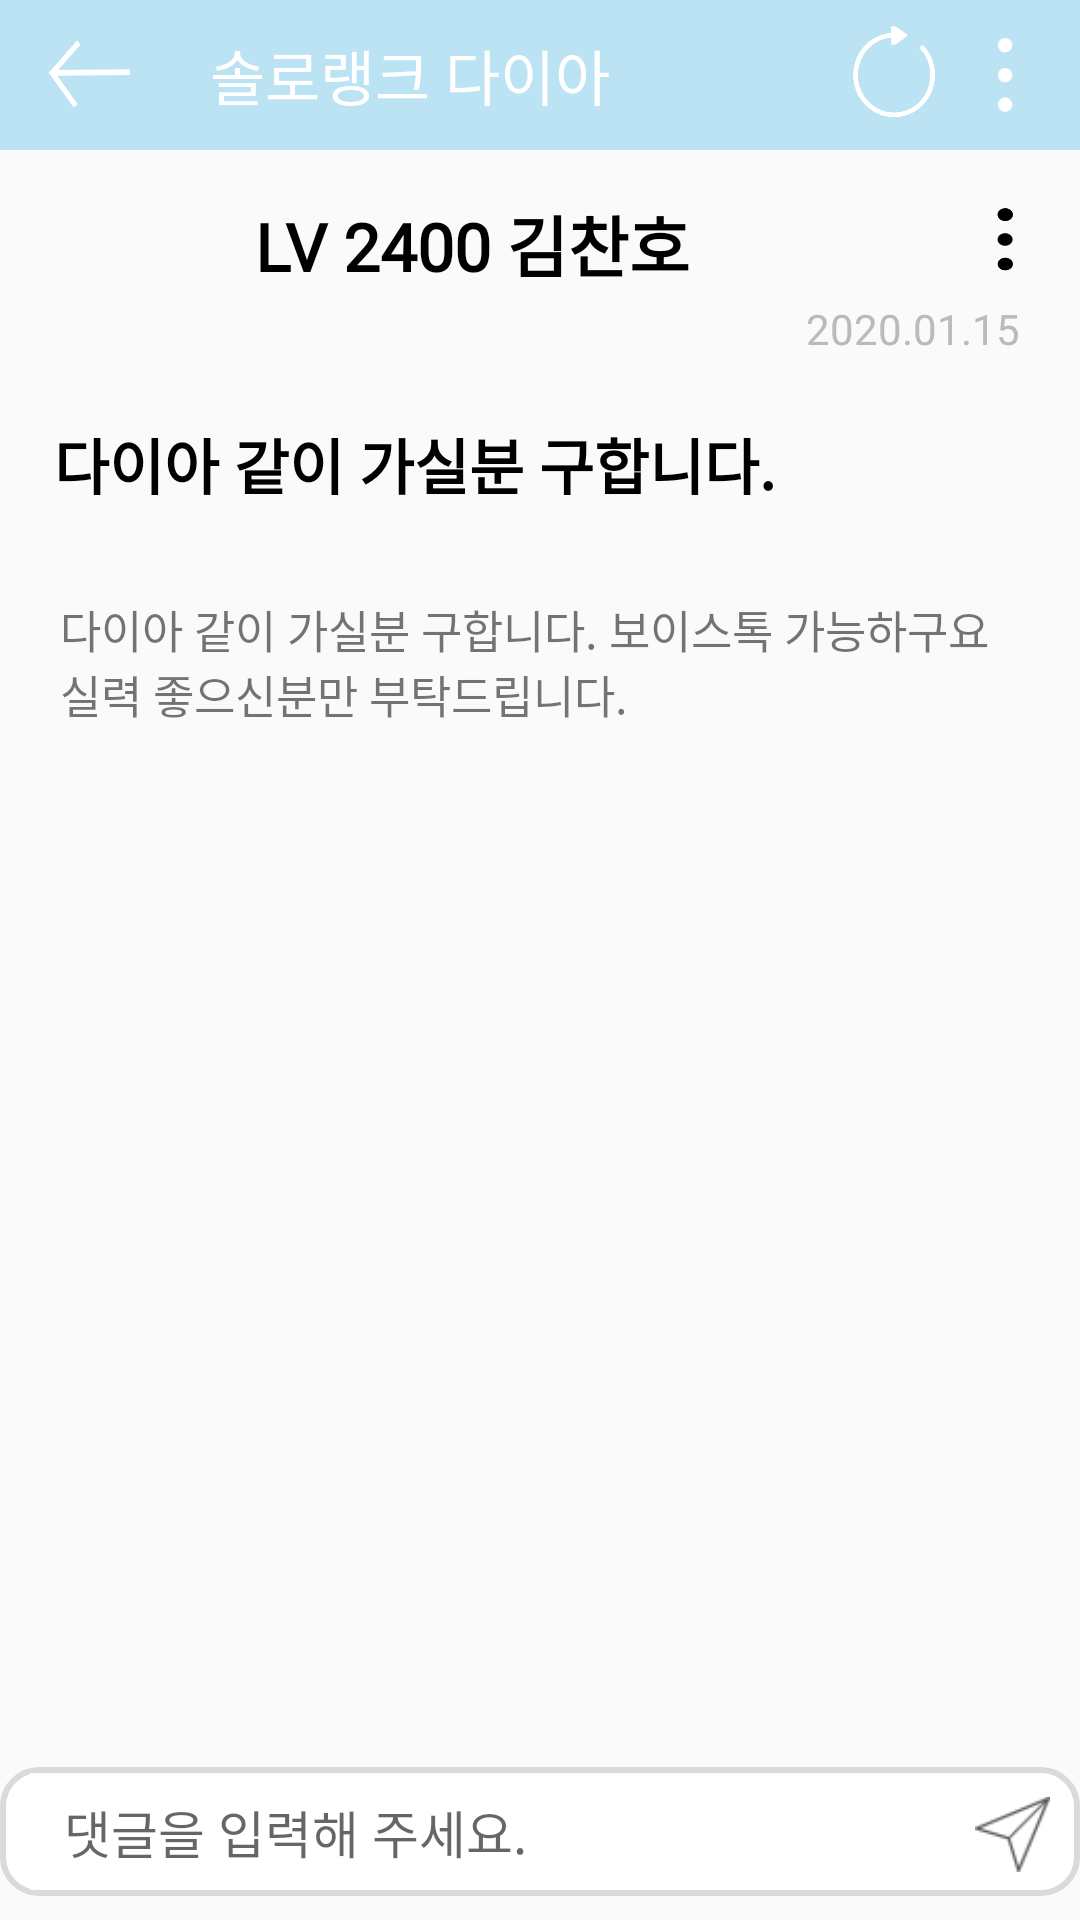

Named icons in this screenshot (1080 × 1920) and their centers, (x=x, y=y):
backspace: (x=89, y=74)
comment write: (x=1012, y=1834)
popup: (x=1005, y=75)
user popup: (x=1005, y=239)
writtenrefresh: (x=894, y=71)
